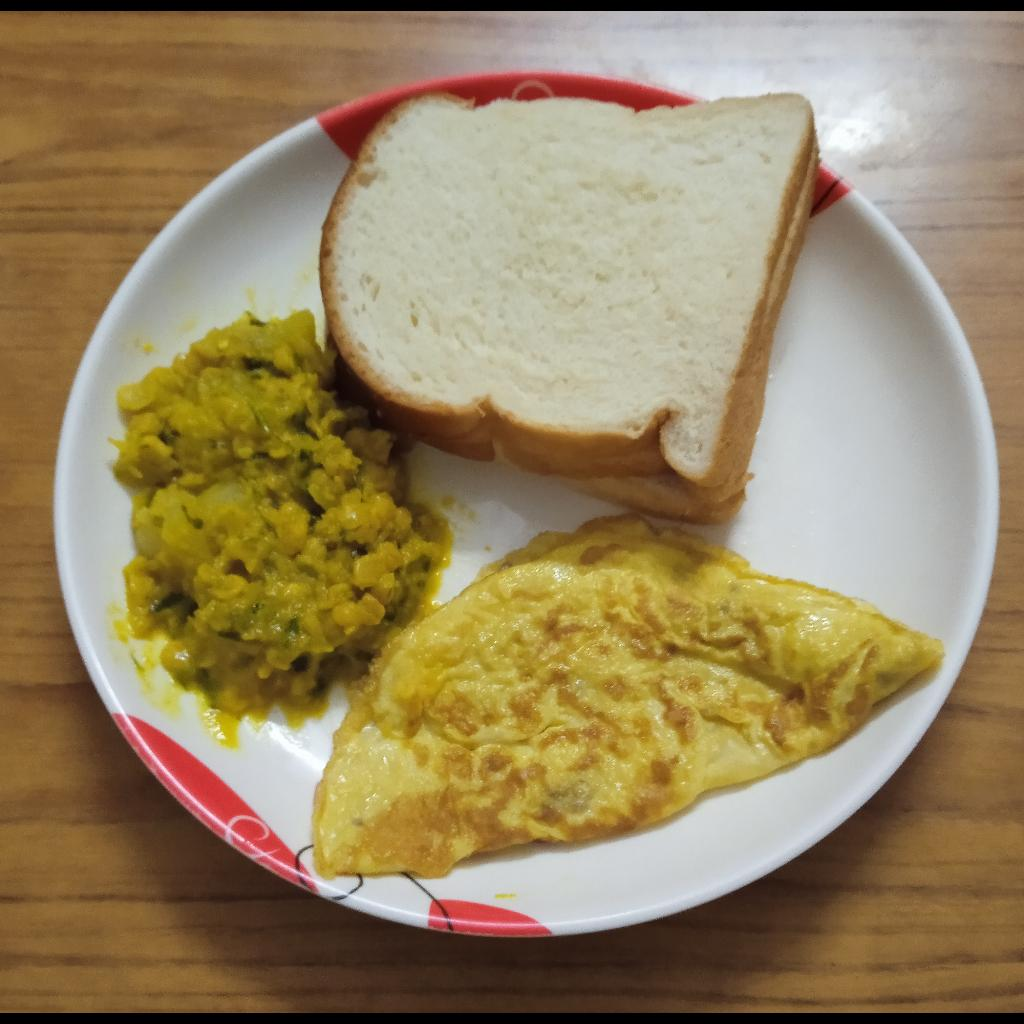bread: (314, 91, 826, 518)
egg-poached: (302, 523, 940, 877)
kumra-vaji: (116, 314, 422, 688)
